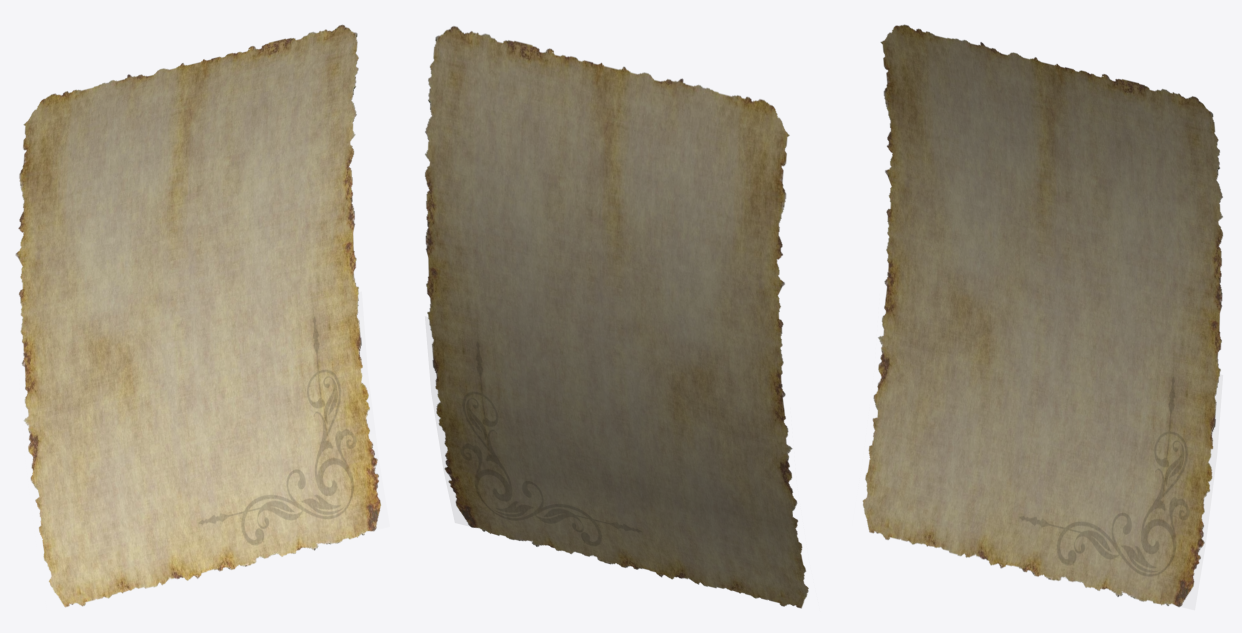
The model's file is Letter.516bf2d2.glb.
3 views of the same model, side by side, from view 1: azimuth 30°, elevation 25°; view 2: azimuth 150°, elevation 25°; view 3: azimuth 330°, elevation 25° (orthographic). The views are drawn at different scales.
Visible parts, largest first — view 1: Plane; view 2: Plane; view 3: Plane.
Boxes of the visible parts, bbox=[...] form: Plane: bbox=[15, 24, 381, 607]; Plane: bbox=[425, 26, 808, 608]; Plane: bbox=[862, 24, 1222, 607].
Bounding box in the file's own units: 2 × 2.8 × 0.3422.
1 material, 1 textured.
